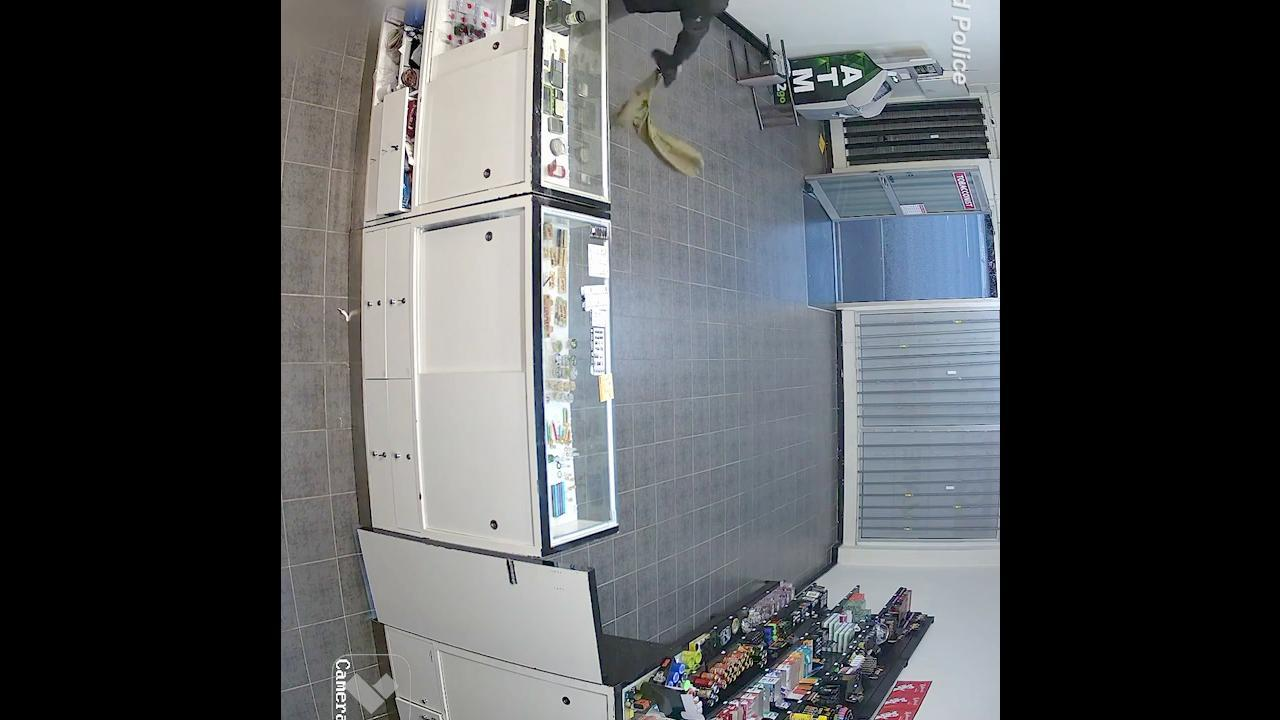melee: (747, 0, 794, 32)
